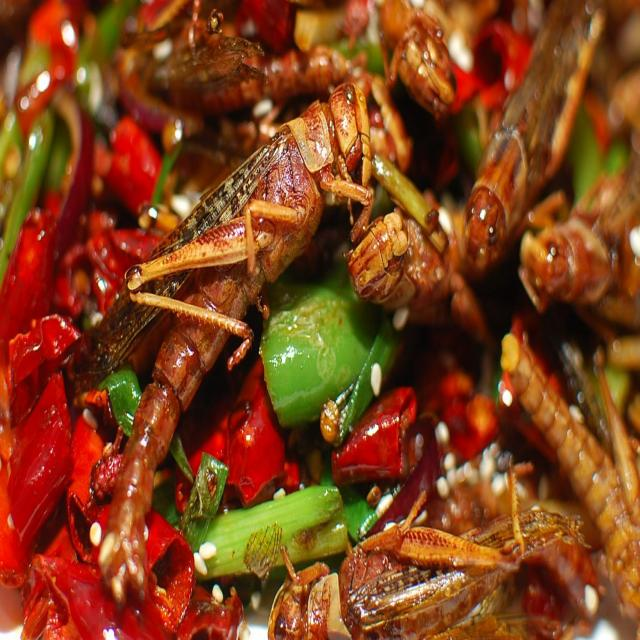ZhaMeng: (94, 86, 374, 513)
